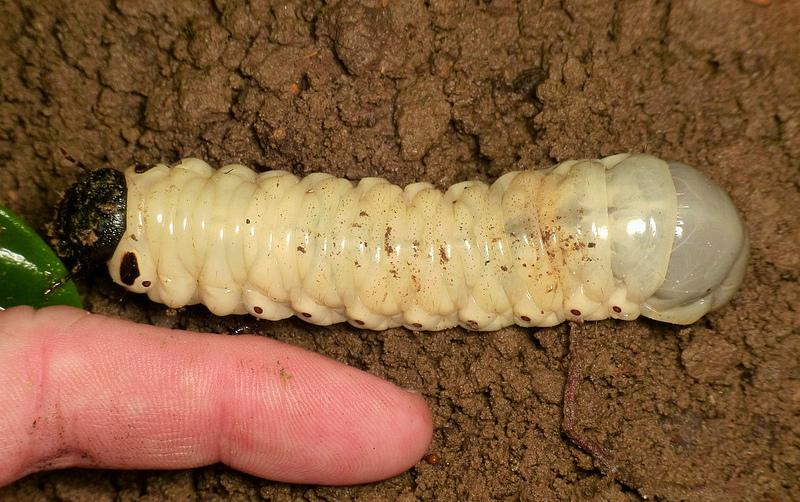grub: (46, 151, 751, 336)
